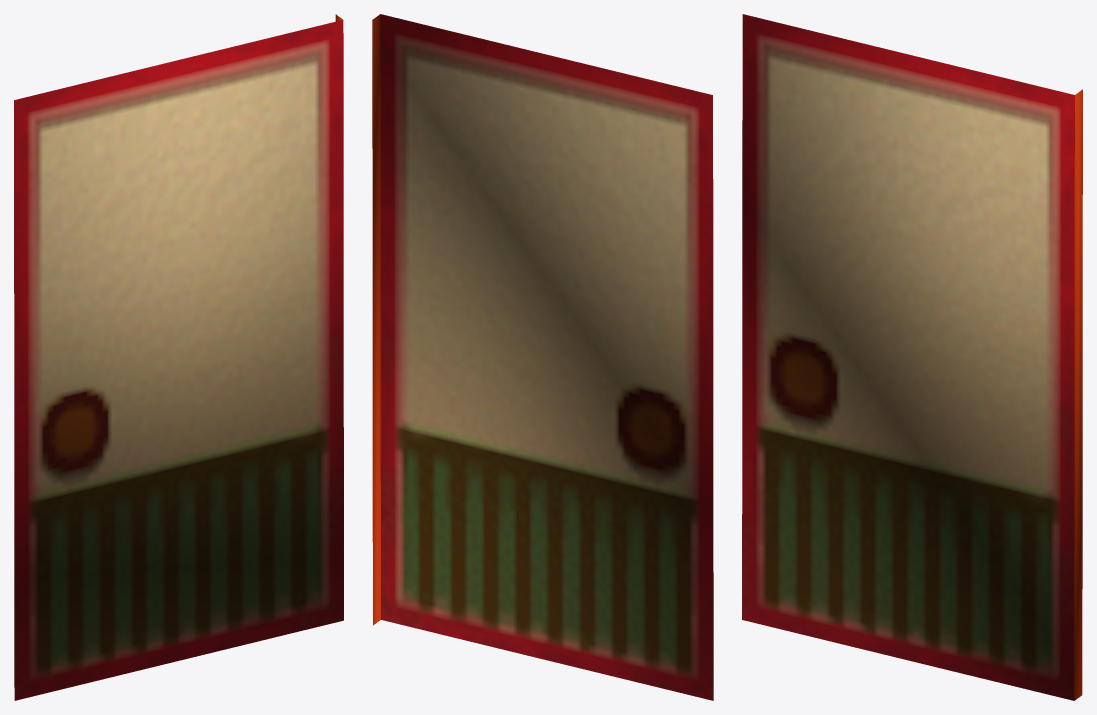
File: hhge.hrc.gltf
3 renders of one model, left to right at view 1: azimuth 30°, elevation 25°; view 2: azimuth 150°, elevation 25°; view 3: azimuth 330°, elevation 25°, orthographic.
Visible parts, largest first — view 1: hhgeBone0_null; view 2: hhgeBone0_null; view 3: hhgeBone0_null.
Part boxes in pixels (x1=…): hhgeBone0_null: x1=14, y1=14, x2=343, y2=700; hhgeBone0_null: x1=372, y1=14, x2=713, y2=700; hhgeBone0_null: x1=742, y1=14, x2=1082, y2=700.
Bounding box in the file's own units: 27.98 × 48.72 × 1.25.
2 materials, 1 textured.
